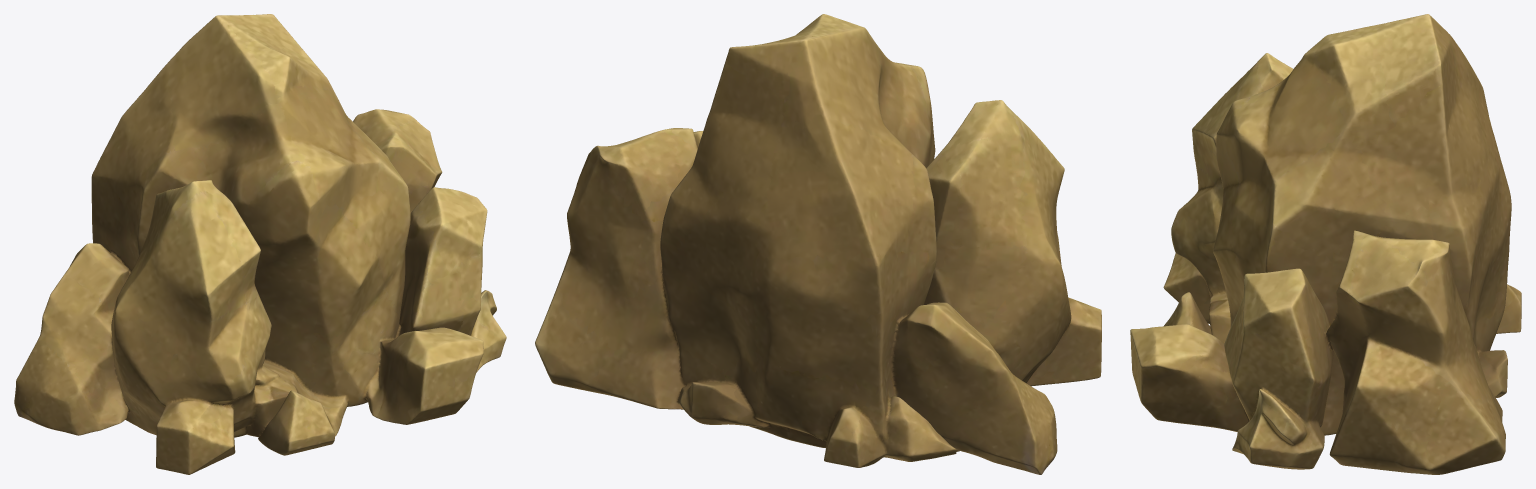
File: gold.glb
The picture shows the model from 3 angles, left to right: view 1: azimuth 30°, elevation 25°; view 2: azimuth 150°, elevation 25°; view 3: azimuth 270°, elevation 25°; orthographic projection. The views are drawn at different scales.
Size of the model in its own units: 1.89 by 1.45 by 1.39.
1 material, 1 textured.
